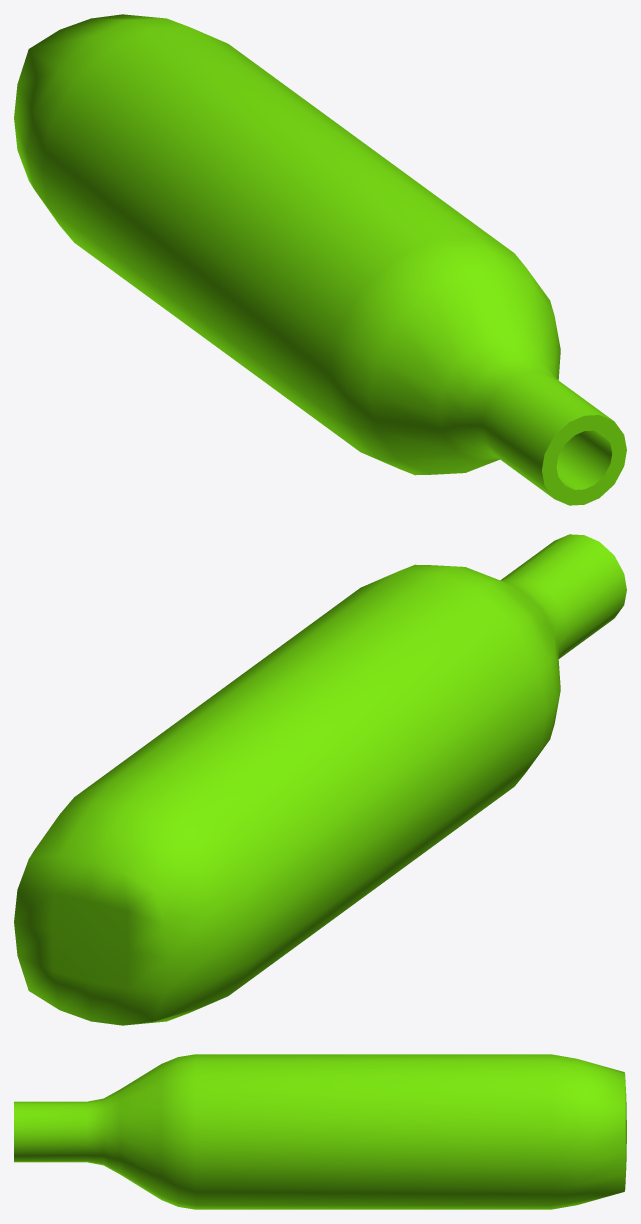
Rendered from TEST3_glass_bottle_whole.fbx.
3 renders of one model, top to bottom at view 1: azimuth 30°, elevation 25°; view 2: azimuth 150°, elevation 25°; view 3: azimuth 270°, elevation 25°, orthographic. The views are drawn at different scales.
Visible parts, largest first — view 1: co2_cartridge; view 2: co2_cartridge; view 3: co2_cartridge.
Boxes of the visible parts, left/top/right/bottom form: co2_cartridge: left=14, top=14, right=626, bottom=505; co2_cartridge: left=14, top=534, right=626, bottom=1025; co2_cartridge: left=14, top=1054, right=626, bottom=1209.
Size of the model in its own units: 2.13 by 2.13 by 8.36.
